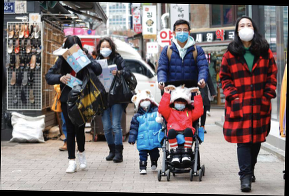with_mask: (237, 21, 255, 42), (174, 26, 189, 43), (99, 44, 112, 57), (139, 96, 152, 109), (174, 100, 186, 111)
